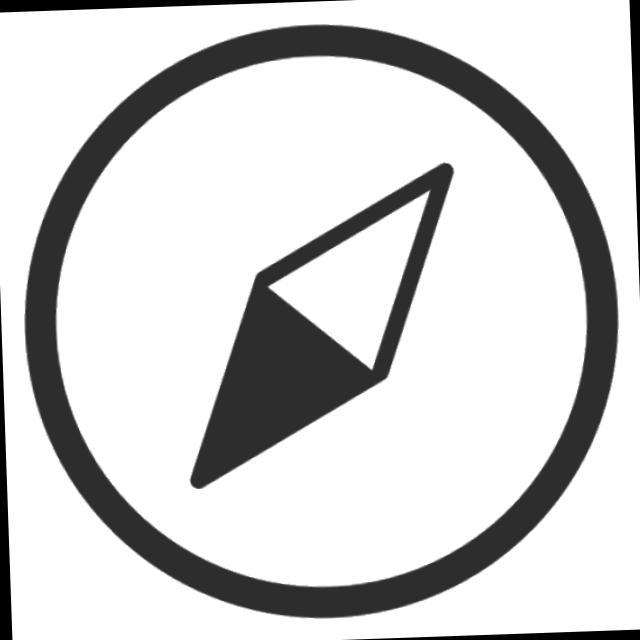compass: (3, 1, 638, 636)
